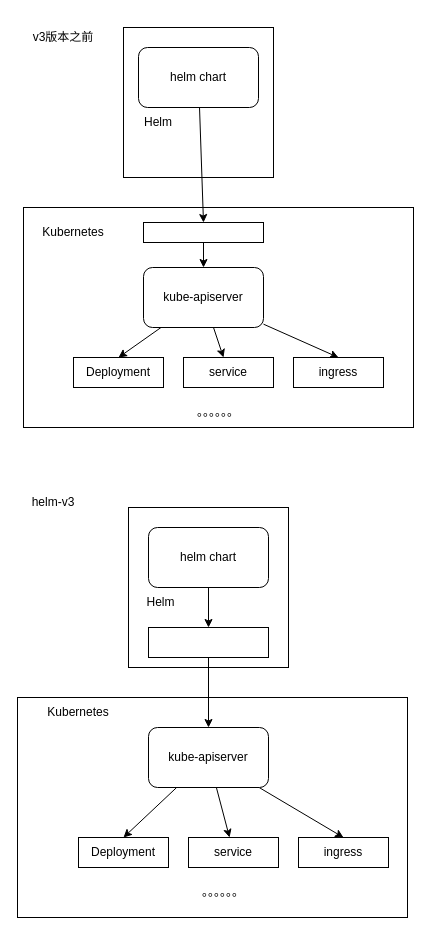
This 431x935 diagram has some shape labels left out. Here are the shapes that lost their labels. From the top down, the centre of each, then its label:
At pixel 203 232: "Tiller".
At pixel 208 642: "kube-config".
